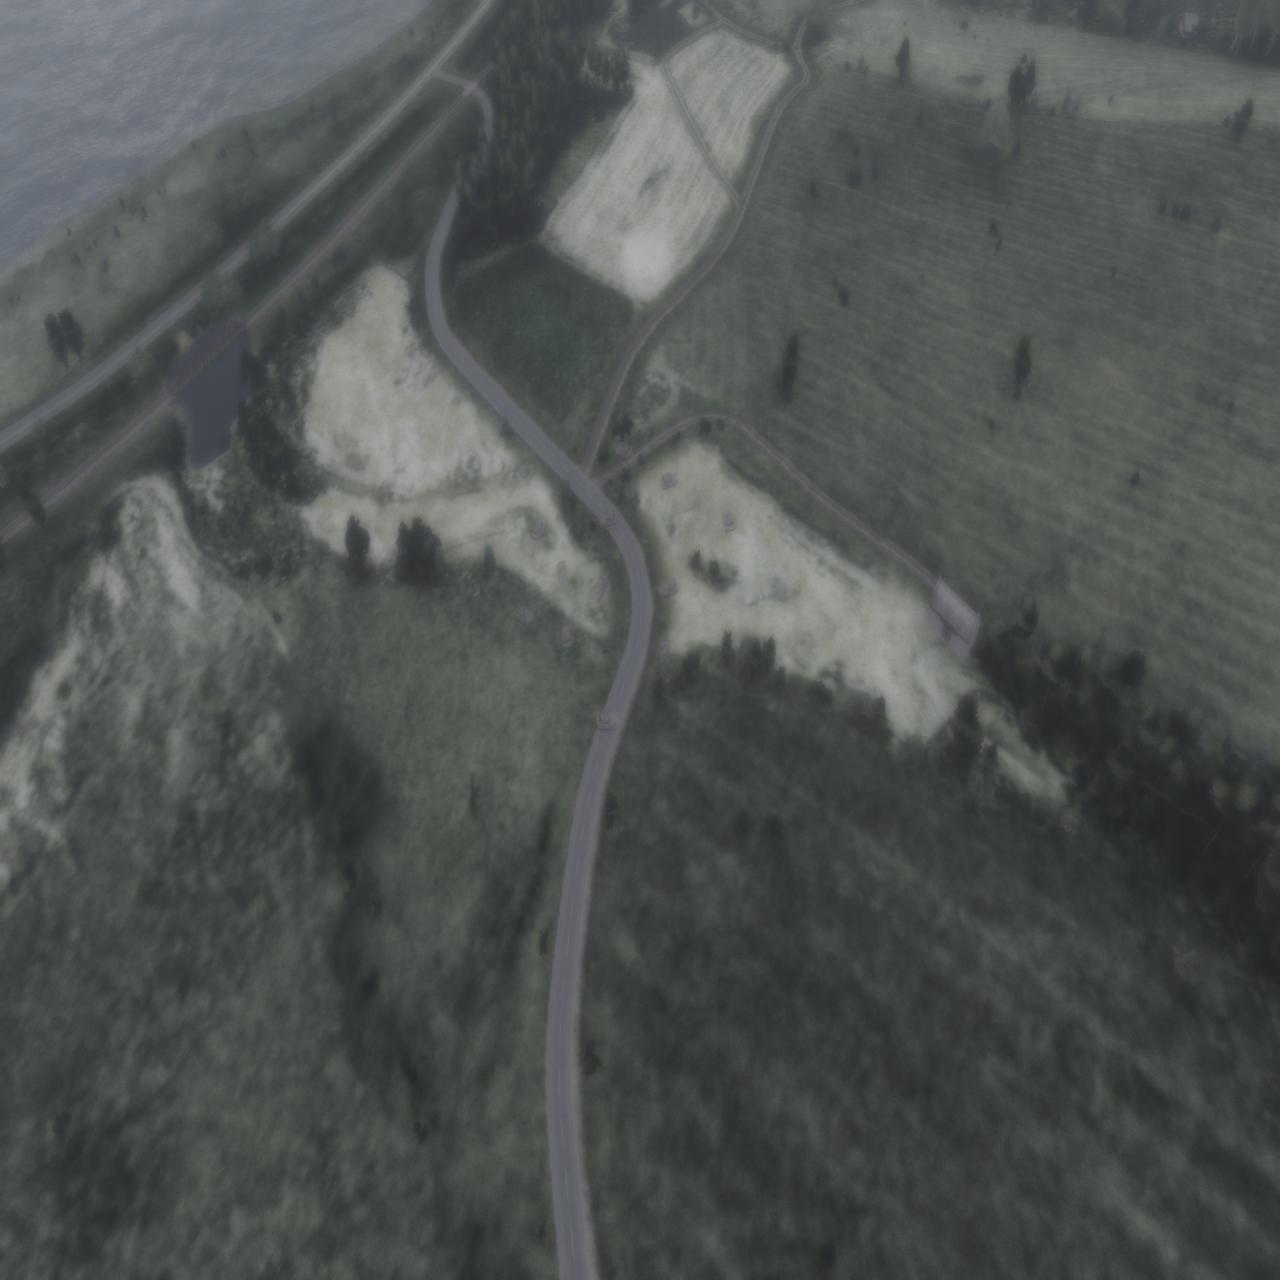MIL_Veh: (594, 707, 620, 731), (654, 578, 679, 601), (592, 509, 618, 529), (513, 602, 536, 625), (591, 576, 608, 602), (658, 635, 673, 665), (530, 518, 549, 539), (614, 440, 633, 461), (722, 508, 736, 533), (660, 470, 678, 490), (560, 625, 573, 649), (557, 559, 568, 584)
